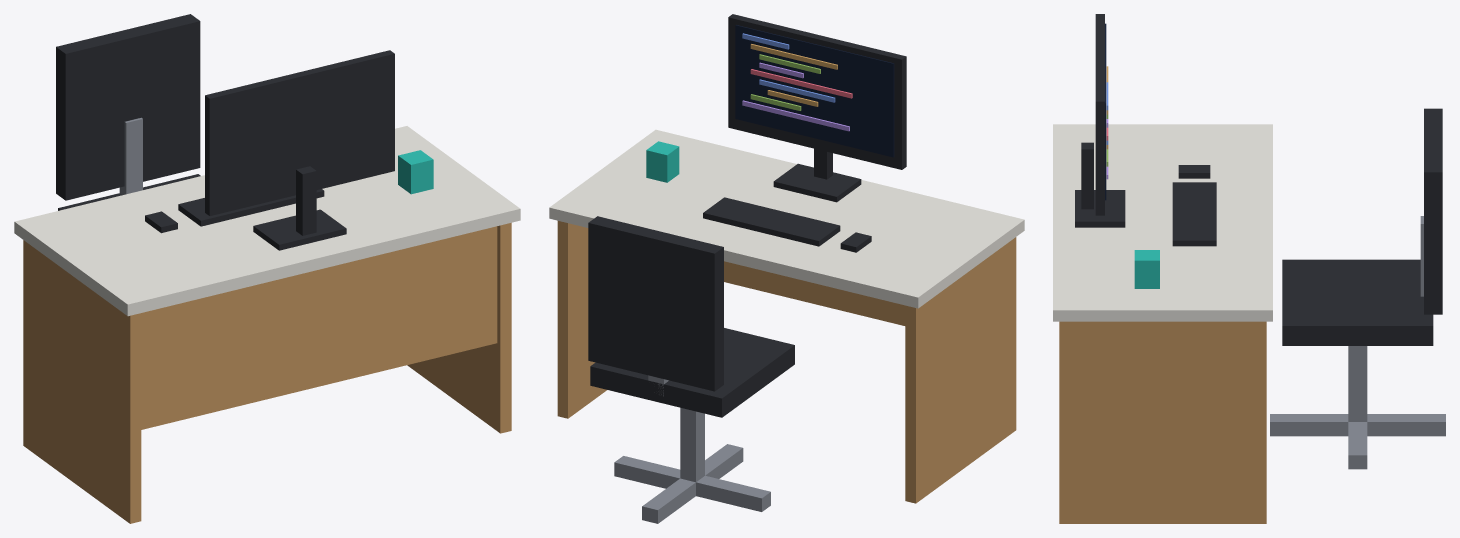
Rendered from workstation.glb.
3 views of the same model, side by side, from view 1: azimuth 30°, elevation 25°; view 2: azimuth 150°, elevation 25°; view 3: azimuth 270°, elevation 25° (orthographic). The views are drawn at different scales.
Visible parts, largest first — view 1: workstation; view 2: workstation; view 3: workstation.
Boxes of the visible parts, left/top/right/bottom form: workstation: left=14, top=14, right=520, bottom=523; workstation: left=549, top=14, right=1024, bottom=523; workstation: left=1053, top=14, right=1445, bottom=523.
Bounding box in the file's own units: 1.4 × 1.32 × 1.25.
